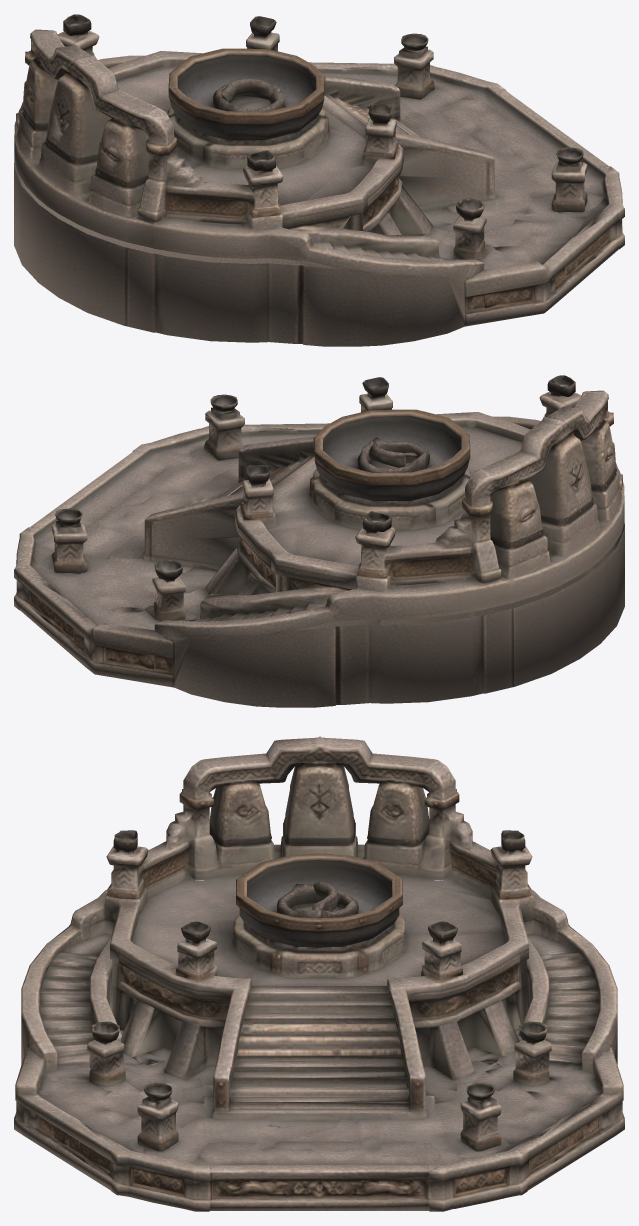
Rendered from ocak-sv25.glb.
The picture shows the model from 3 angles, top to bottom: view 1: azimuth 30°, elevation 25°; view 2: azimuth 150°, elevation 25°; view 3: azimuth 270°, elevation 25°; orthographic projection. The views are drawn at different scales.
Visible parts, largest first — view 1: tripo_node_43e1ecac-d9e5-49c7-9e4a-37c8ef85a0ea; view 2: tripo_node_43e1ecac-d9e5-49c7-9e4a-37c8ef85a0ea; view 3: tripo_node_43e1ecac-d9e5-49c7-9e4a-37c8ef85a0ea.
Boxes of the visible parts, <box> form: tripo_node_43e1ecac-d9e5-49c7-9e4a-37c8ef85a0ea: <box>14,14,624,346</box>; tripo_node_43e1ecac-d9e5-49c7-9e4a-37c8ef85a0ea: <box>14,375,624,707</box>; tripo_node_43e1ecac-d9e5-49c7-9e4a-37c8ef85a0ea: <box>14,736,624,1211</box>.
Bounding box in the file's own units: 0.998 × 0.4168 × 0.9961.
Materials: 1 (1 with a texture image).
